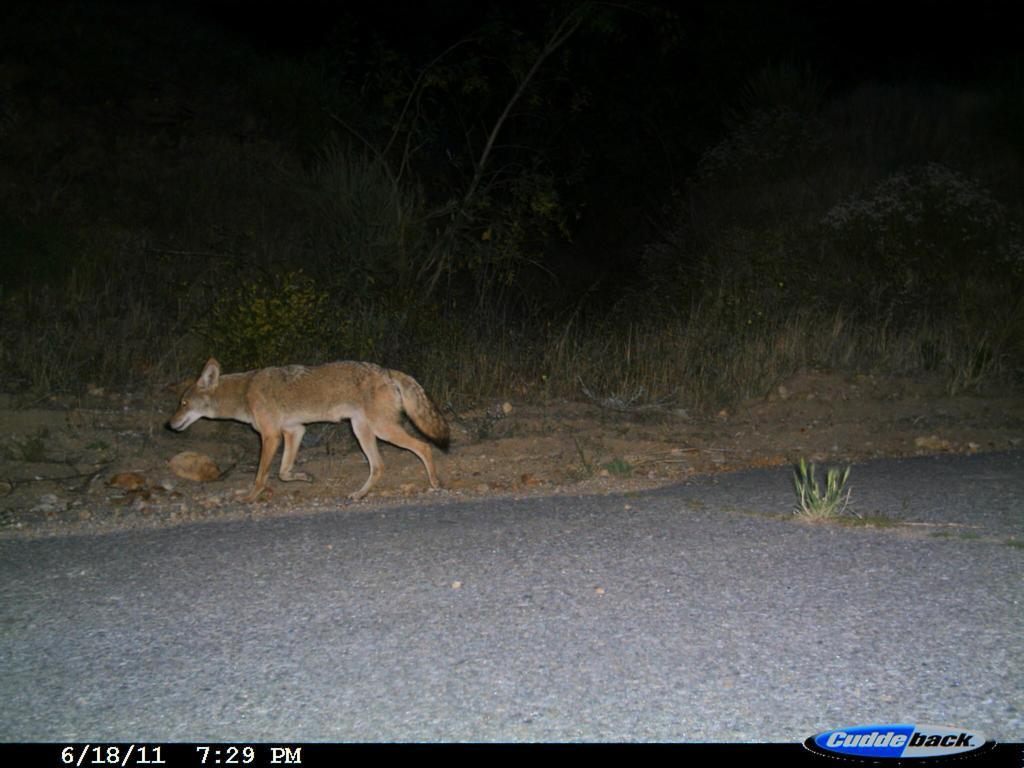coyote: (164, 355, 459, 509)
